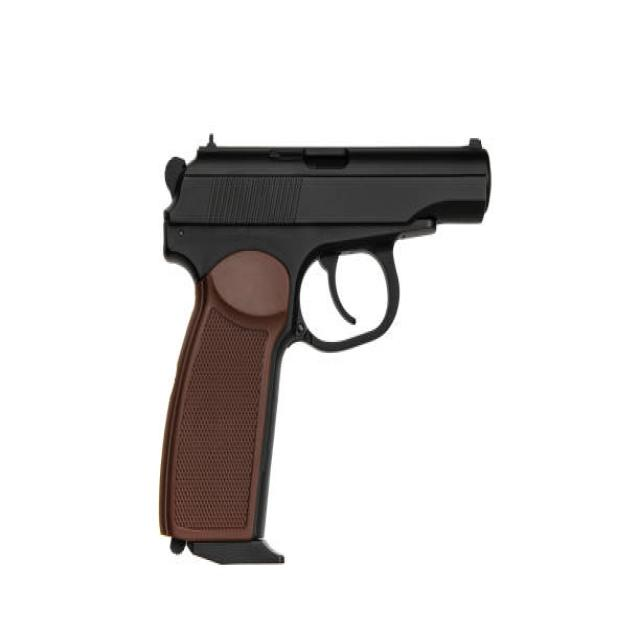pistol: (151, 128, 499, 574)
